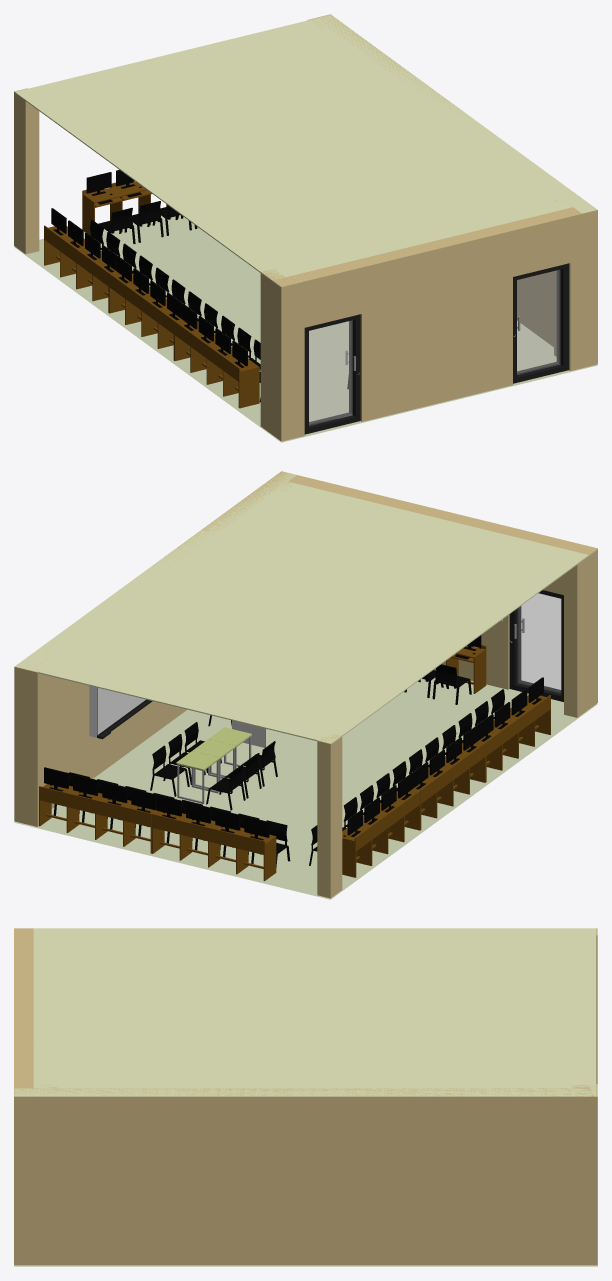
File: CCIS_LabRm4_v1.glb
The picture shows the model from 3 angles, top to bottom: view 1: azimuth 30°, elevation 25°; view 2: azimuth 150°, elevation 25°; view 3: azimuth 270°, elevation 25°; orthographic projection. The views are drawn at different scales.
Visible parts, largest first — view 1: LabRm4-5 Table.002; view 2: LabRm4-5 Table.002; view 3: LabRm4-5 Table.002.
Boxes of the visible parts, x1,y1,x2,y2 form: LabRm4-5 Table.002: (14, 14, 597, 442); LabRm4-5 Table.002: (14, 471, 597, 899); LabRm4-5 Table.002: (14, 928, 597, 1266).
Size of the model in its own units: 2.83 by 1.33 by 4.14.
